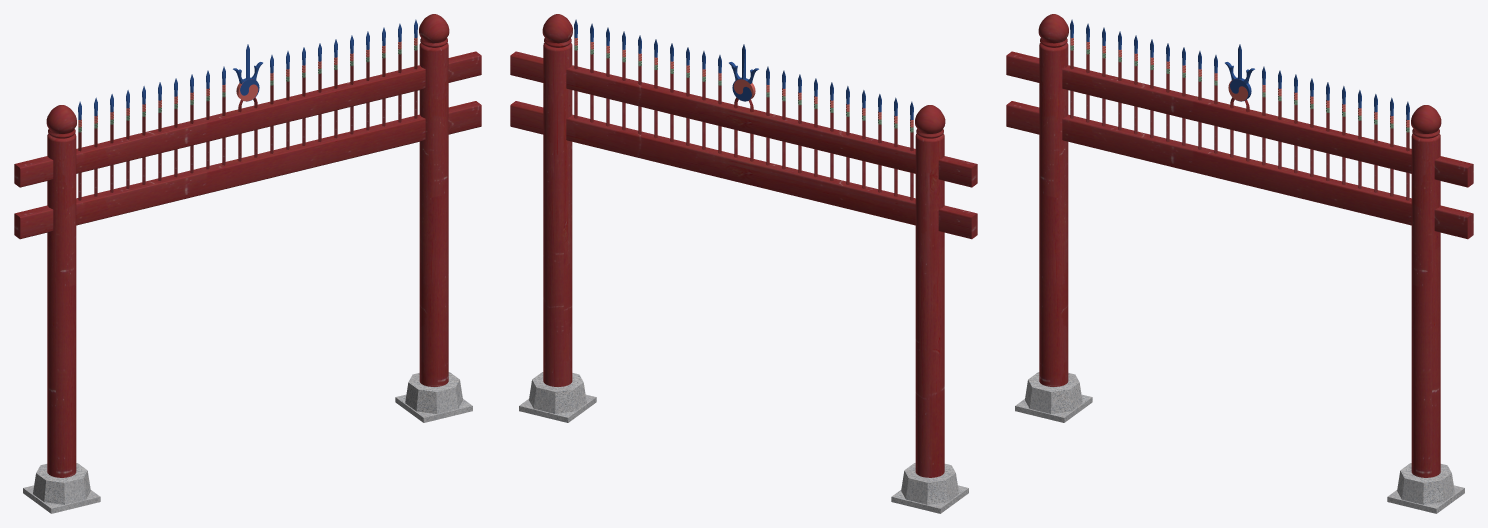
The model's file is SM_Hongsalmun.fbx.
3 renders of one model, left to right at view 1: azimuth 30°, elevation 25°; view 2: azimuth 150°, elevation 25°; view 3: azimuth 330°, elevation 25°, orthographic.
Visible parts, largest first — view 1: SM_Hongsalmun; view 2: SM_Hongsalmun; view 3: SM_Hongsalmun.
Part boxes in pixels (x1,y1,x2,y2): SM_Hongsalmun: [14, 14, 481, 513]; SM_Hongsalmun: [510, 14, 977, 513]; SM_Hongsalmun: [1006, 14, 1473, 513].
Bounding box in the file's own units: 880 × 93.81 × 745.
4 materials, 4 textured.
